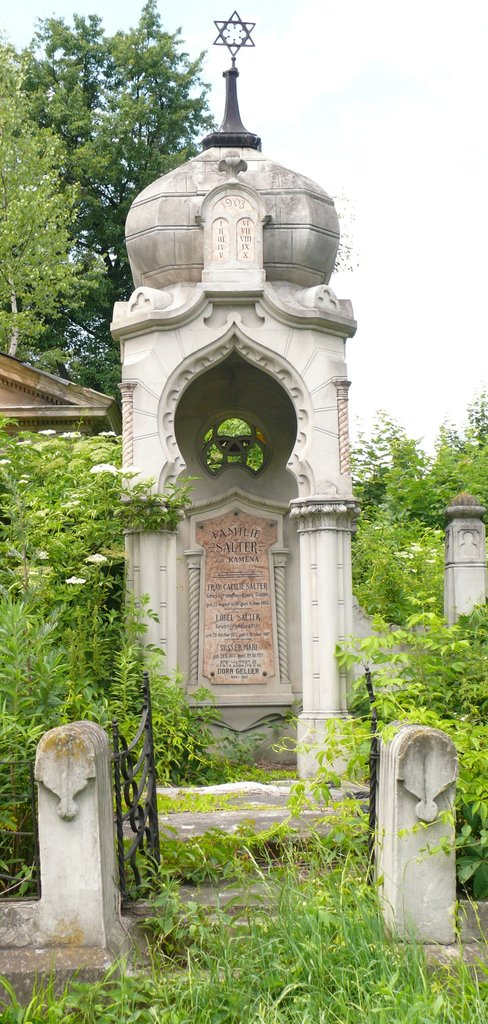Tree: (6, 0, 216, 402), (0, 26, 106, 376), (342, 376, 487, 623)
